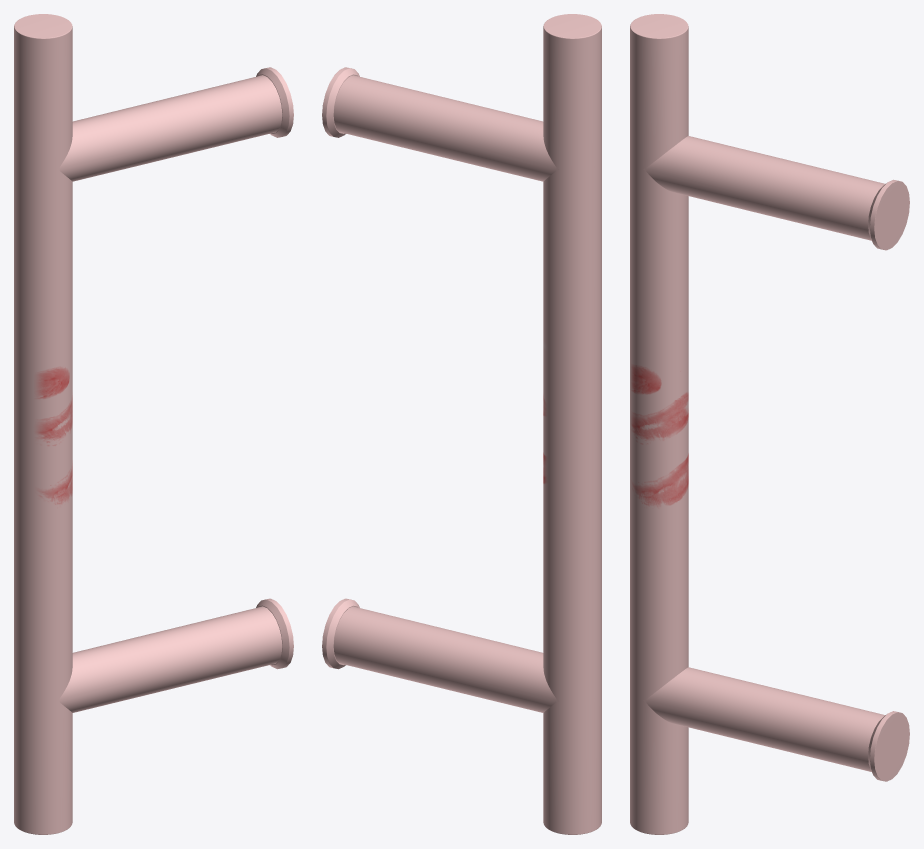
File: handle_red.glb
3 renders of one model, left to right at view 1: azimuth 30°, elevation 25°; view 2: azimuth 150°, elevation 25°; view 3: azimuth 330°, elevation 25°, orthographic.
Visible parts, largest first — view 1: Door_handle; view 2: Door_handle; view 3: Door_handle.
Part boxes in pixels (left/top/right/bottom): Door_handle: left=14, top=14, right=293, bottom=834; Door_handle: left=322, top=14, right=601, bottom=834; Door_handle: left=630, top=14, right=909, bottom=834.
Size of the model in its own units: 0.2007 by 0.5918 by 0.0481.
Materials: 1 (1 with a texture image).
